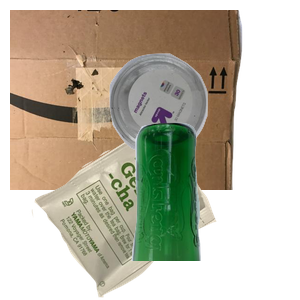cardboard: (10, 10, 245, 190)
glass: (129, 120, 300, 300)
plastic: (107, 51, 300, 199)
trash: (29, 124, 238, 300)
